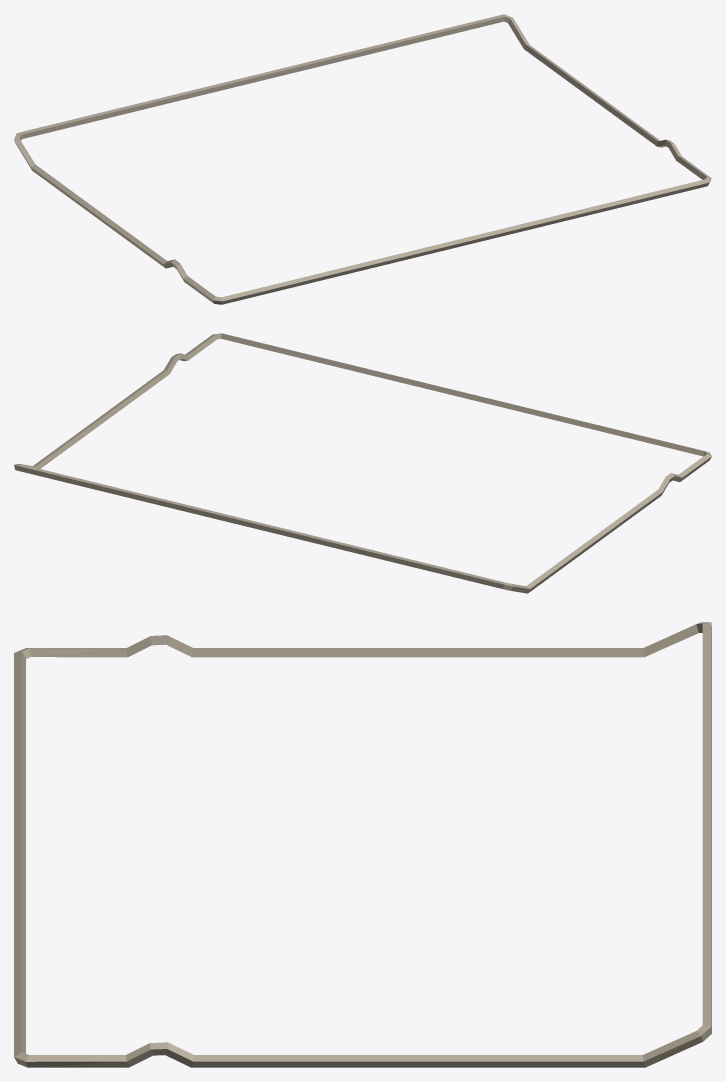
The model's file is original-33.obj.
3 renders of one model, top to bottom at view 1: azimuth 30°, elevation 25°; view 2: azimuth 150°, elevation 25°; view 3: azimuth 270°, elevation 25°, orthographic. The views are drawn at different scales.
Parts seen in each view (by area): view 1: mesh50/mesh50-geometry#mesh50-geometry; view 2: mesh50/mesh50-geometry#mesh50-geometry; view 3: mesh50/mesh50-geometry#mesh50-geometry.
Boxes of the visible parts, x1=… form: mesh50/mesh50-geometry#mesh50-geometry: x1=14, y1=14, x2=711, y2=304; mesh50/mesh50-geometry#mesh50-geometry: x1=14, y1=333, x2=711, y2=593; mesh50/mesh50-geometry#mesh50-geometry: x1=14, y1=622, x2=711, y2=1067.
Size of the model in its own units: 0.9084 by 0.0389 by 0.6476.
